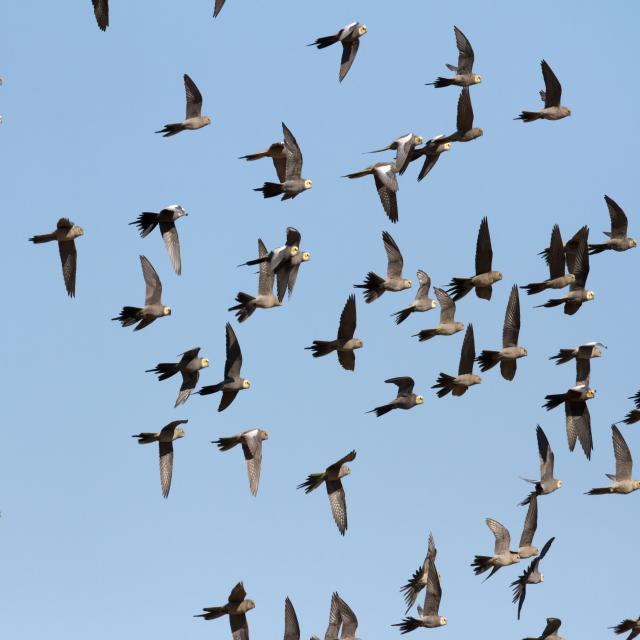bird: (231, 227, 316, 322), (239, 120, 315, 203), (342, 140, 414, 226), (396, 533, 450, 632), (298, 447, 358, 536), (532, 223, 595, 307), (480, 286, 534, 380), (302, 292, 364, 373), (450, 218, 508, 304), (113, 255, 176, 332), (30, 216, 86, 302), (542, 375, 598, 460), (352, 231, 414, 307), (127, 202, 192, 274), (145, 344, 214, 408), (210, 427, 272, 496), (134, 423, 190, 498), (306, 22, 371, 84), (427, 24, 483, 95), (193, 579, 258, 640), (155, 74, 216, 138), (207, 331, 253, 412), (433, 330, 484, 400), (472, 518, 531, 577), (518, 62, 574, 123), (521, 426, 567, 496), (593, 430, 640, 496), (435, 90, 486, 145), (302, 592, 362, 638), (412, 138, 472, 184), (593, 196, 639, 254), (395, 267, 440, 324), (371, 374, 427, 419), (260, 598, 317, 638), (549, 342, 608, 380), (74, 0, 132, 31), (515, 498, 539, 560), (207, 0, 275, 20), (518, 618, 570, 640)
